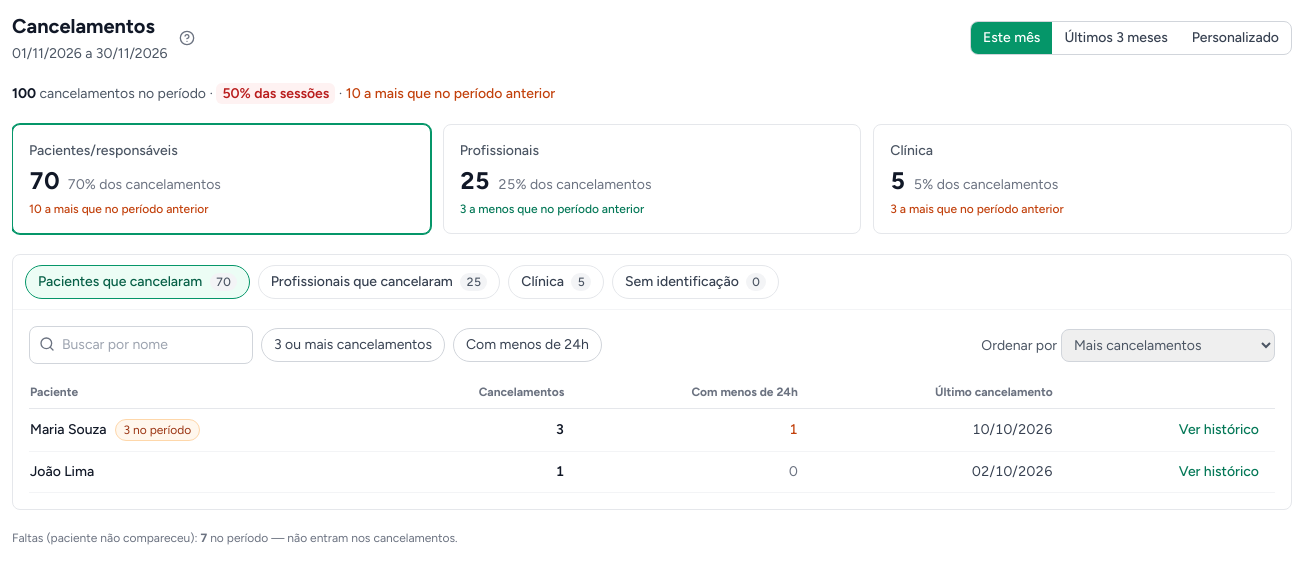
Scenario: CancellationsReport › aba "Sem identificação" lista os atendimentos
This screenshot has width=1304, height=562.
What coordinates should you click on to do the following:
click the tab "Sem identificação 0"
I would click on:
 (695, 282)
Its box is [612,265,779,299].
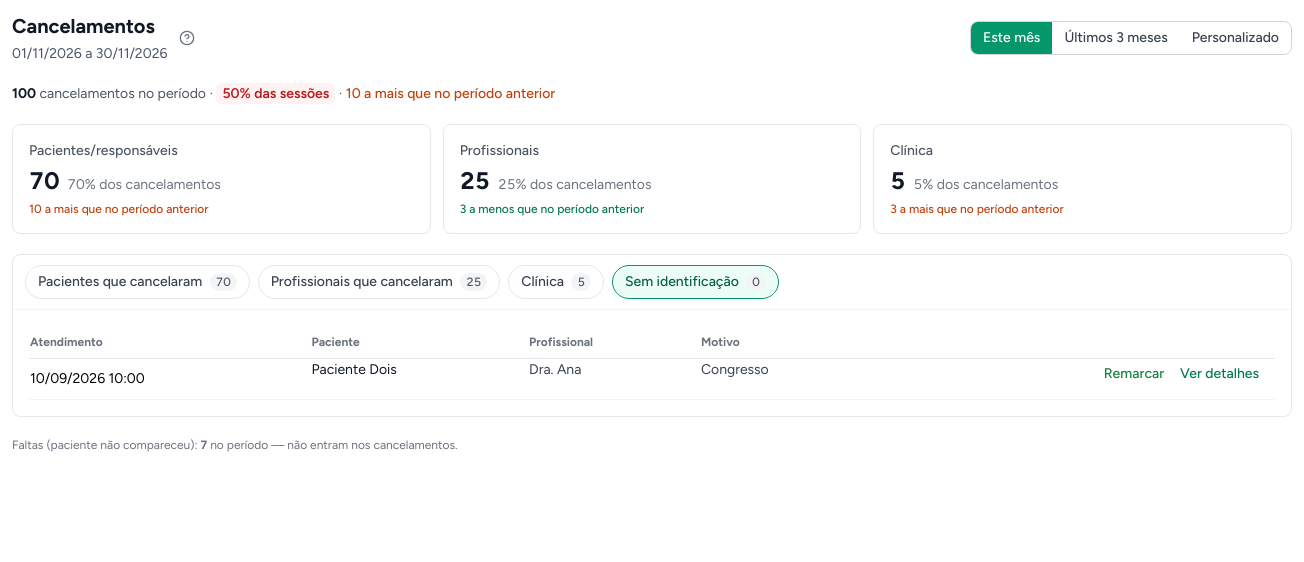
Expected: the text "Paciente Dois" is shown, [304,358,521,400]
